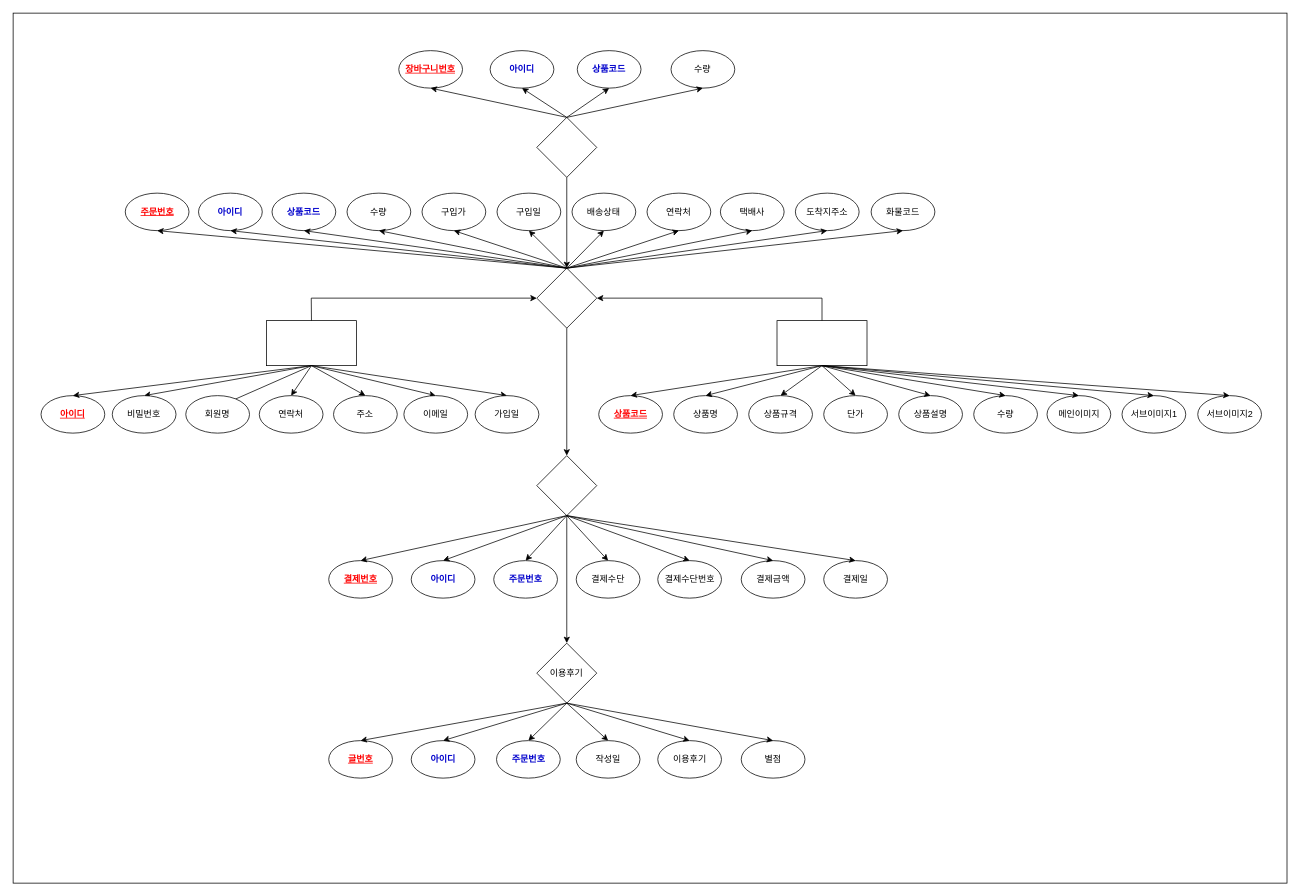
Some shapes in this 1301 by 896 pixel diagram are drawn without their labels. The shapes that lost their labels are listed below. From the top down, each one's box as (x1, y1, x2, y2) in pixels, then its label:
(536, 117, 597, 177): 장바구니
(536, 267, 597, 328): 주문
(266, 320, 356, 366): 회원
(776, 320, 867, 366): 상품
(536, 455, 597, 516): 결제
